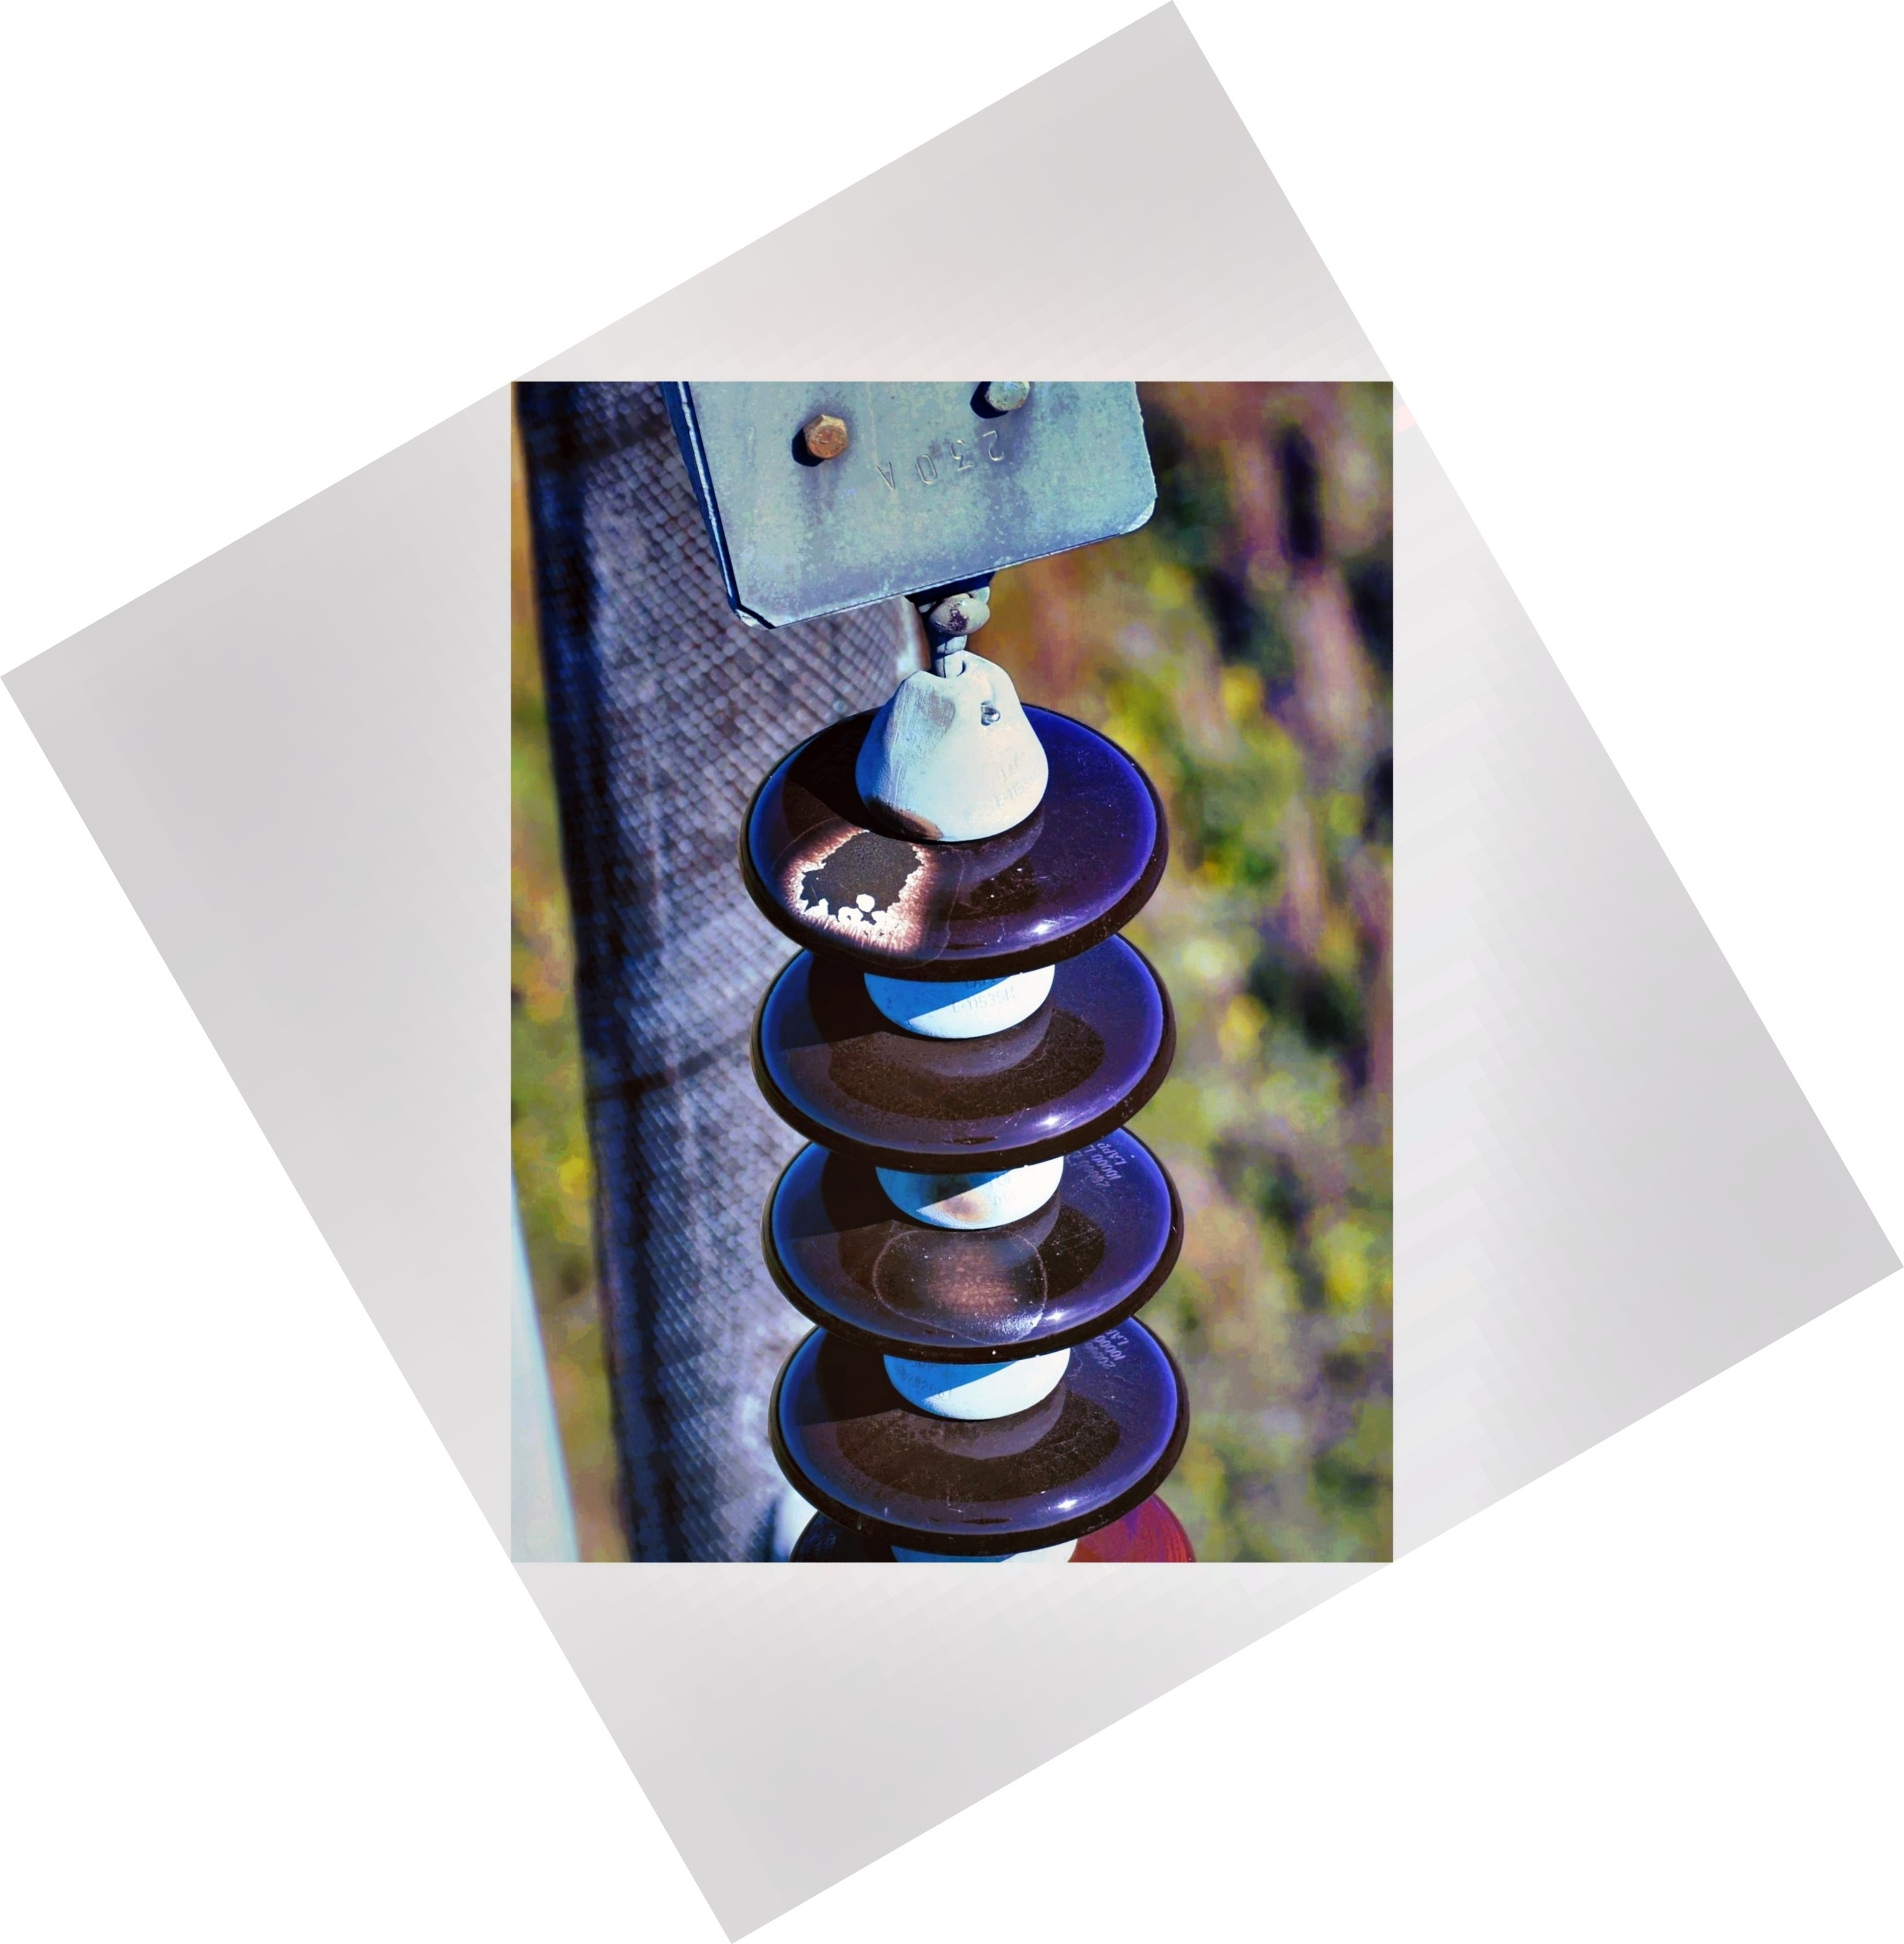Insulator flashover: (713, 664, 1182, 987)
